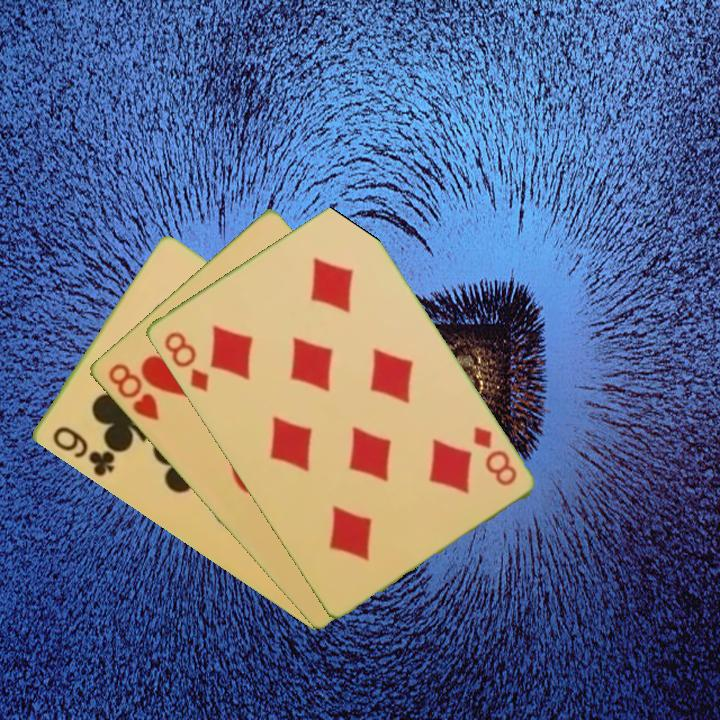8d: (159, 328, 212, 394), (469, 422, 520, 489)
8h: (104, 359, 162, 423)
9c: (48, 422, 117, 480)
